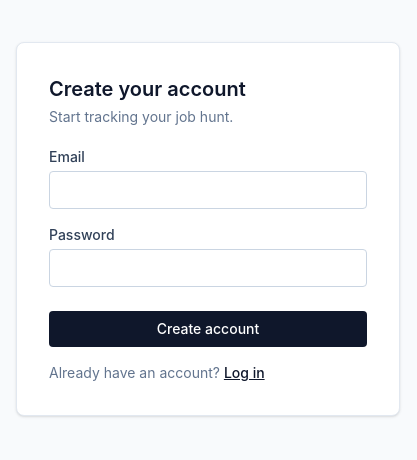
it: RegisterPage › shows the conflict message when the email is already taken
In the field labelled "Email": (208, 190) [49,171,367,209], type "ada@example.com"
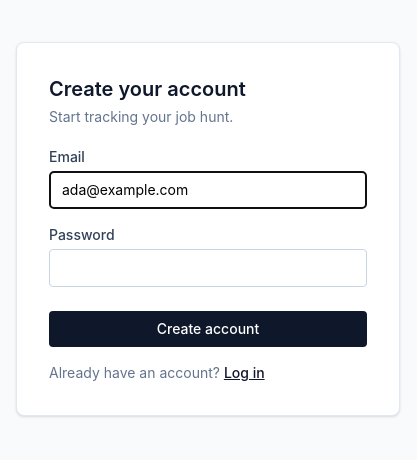
In the password field labelled "Password": (208, 268) [49,249,367,287], type "password123"
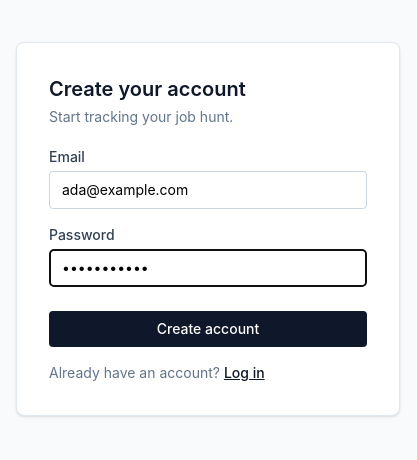
Click the button "Create account": click(208, 329) [49,311,367,347]
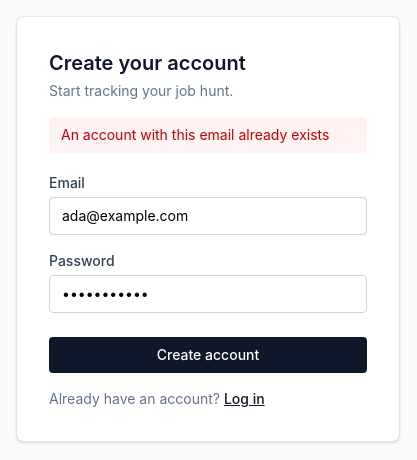
Expected: the message reads "An account with this email already exists", [61,126,329,143]
